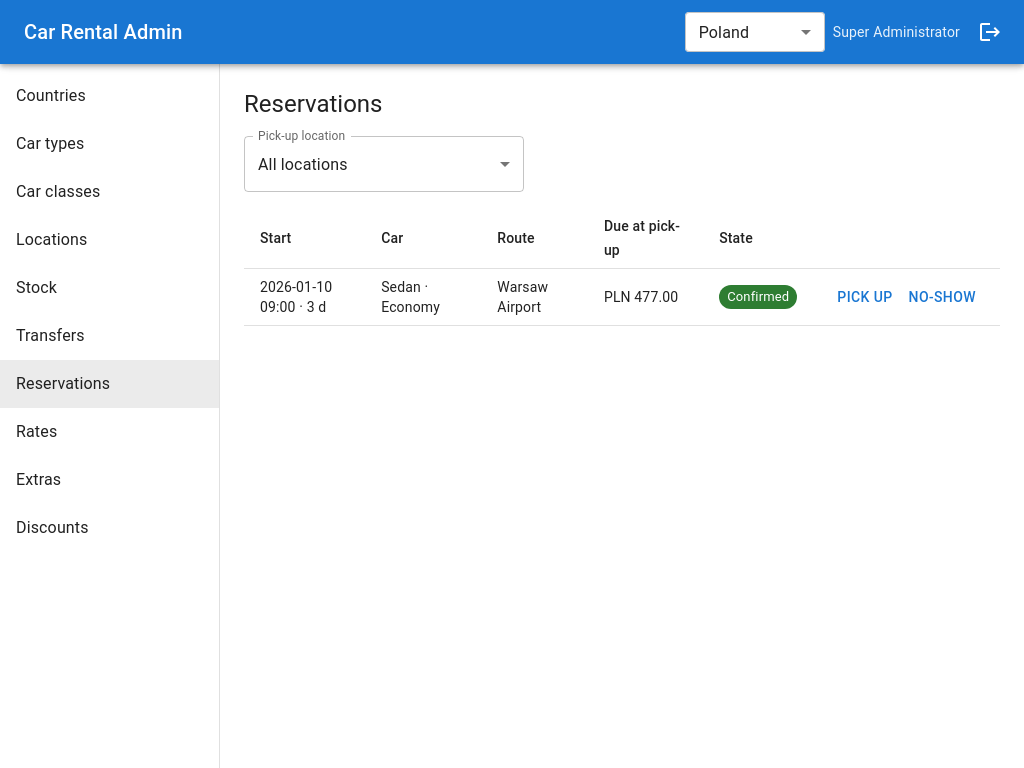
Scenario: Reservations › shows the explanation of a refused change
Click the button "No-show". click: {"x": 942, "y": 297}
box: x1=901 y1=275 x2=984 y2=319
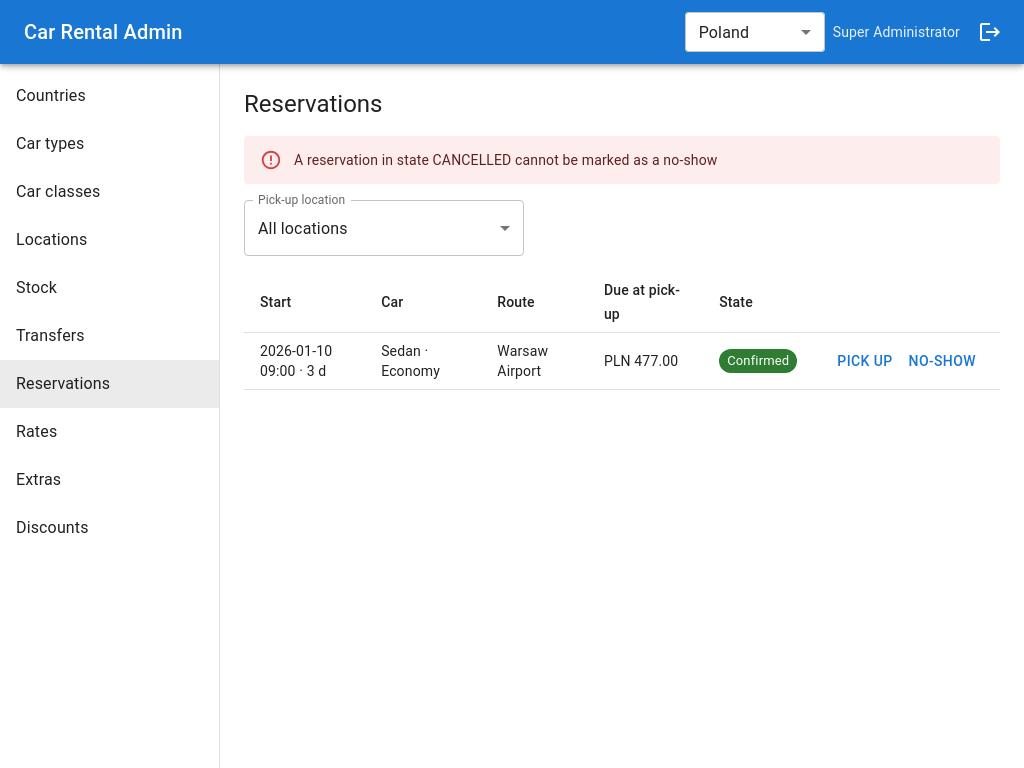
Result: the text "A reservation in state CANCELLED cannot be marked as a no-show" is shown at x1=294 y1=152 x2=718 y2=168
